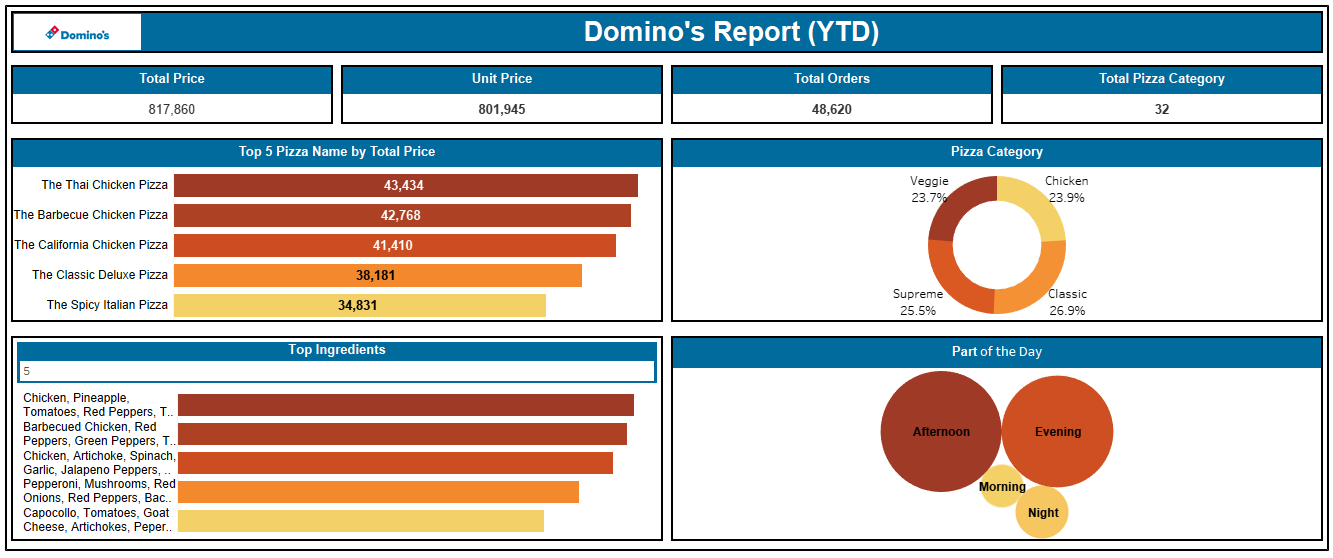

Layout of this report page (visuals, bound fields, positions):
{"tool":"tableau","page":{"name":"Sales Dashboard","canvas":[1000,1000],"units":"permille","ordinal":0},"visuals":[{"type":"image","param":"Image/dominos logo.png","box":[12,28.5,96.3,67.6]},{"type":"text","box":[108.2,28.5,879.8,67.6]},{"type":"worksheet","title":"Total Price","mark":"Automatic","box":[7.5,113.9,246.3,119.2]},{"type":"worksheet","title":"Unit Price","mark":"Automatic","box":[253.7,113.9,246.3,119.2]},{"type":"worksheet","title":"Total Orders","mark":"Automatic","box":[500,113.9,246.3,119.2]},{"type":"worksheet","title":"Total Pizza Category","mark":"Automatic","box":[746.3,113.9,246.3,119.2]},{"type":"worksheet","title":"Top 5 Pizza Name by Total Price","mark":"Automatic","rows":["pizza_name"],"cols":["total_price"],"box":[7.5,243.8,492.5,341.6]},{"type":"worksheet","title":"Pizza Category","mark":"Pie","rows":["Calculation_237564918566141954","Calculation_237564918566141954"],"box":[500,243.8,492.5,341.6]},{"type":"worksheet","title":"Part of the Day","mark":"Circle","box":[500,596.1,492.5,379]},{"type":"parameter","param":"[Parameters].[Parameter 3]","box":[11.9,606.8,483.6,87.2]},{"type":"worksheet","title":"Top Ingredients","mark":"Automatic","rows":["pizza_ingredients"],"cols":["total_price"],"box":[11.9,694,483.6,270.4]}]}

Visuals, with their boxes on the dashboard's canvas, which has no fixed pixel size, in thousandths of its width and height (x1, y1, x2, y2). These are canvas units, not pixel positions in the 1333x558 screenshot, which may show the page scaled, cropped or inside an application window:
image: 12,28,108,96
text: 108,28,988,96
"Total Price" worksheet: 8,114,254,233
"Unit Price" worksheet: 254,114,500,233
"Total Orders" worksheet: 500,114,746,233
"Total Pizza Category" worksheet: 746,114,993,233
"Top 5 Pizza Name by Total Price" worksheet: 8,244,500,585
"Pizza Category" worksheet (Pie marks): 500,244,992,585
"Part of the Day" worksheet (Circle marks): 500,596,992,975
parameter: 12,607,496,694
"Top Ingredients" worksheet: 12,694,496,964
